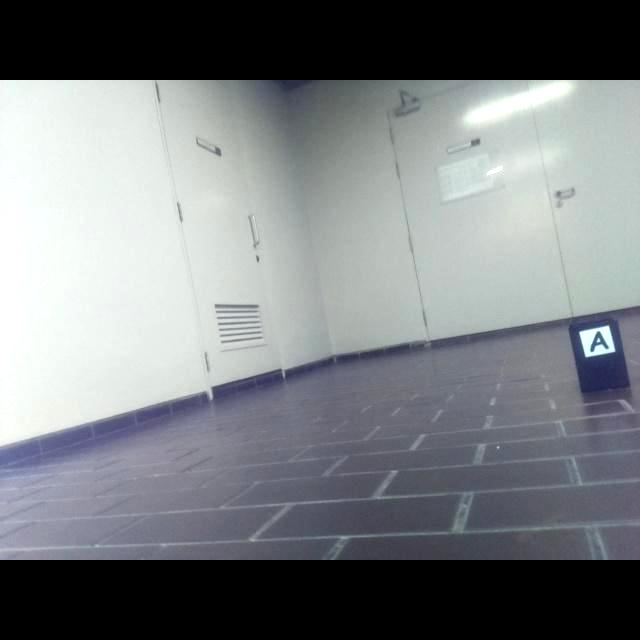A: (590, 331, 609, 353)
